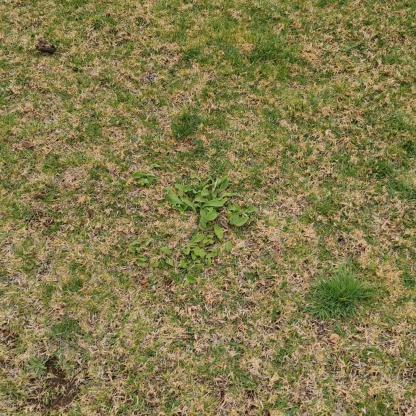Weeds: (128, 174, 258, 287), (130, 164, 162, 189), (26, 356, 49, 381)
